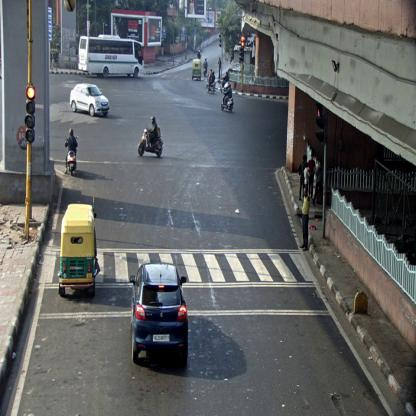bus: (78, 34, 144, 79)
car: (129, 263, 189, 366), (69, 82, 109, 118)
motorcycle: (58, 204, 96, 296), (137, 116, 163, 159), (64, 126, 78, 178), (222, 82, 235, 112), (206, 68, 216, 95), (192, 58, 202, 81)
